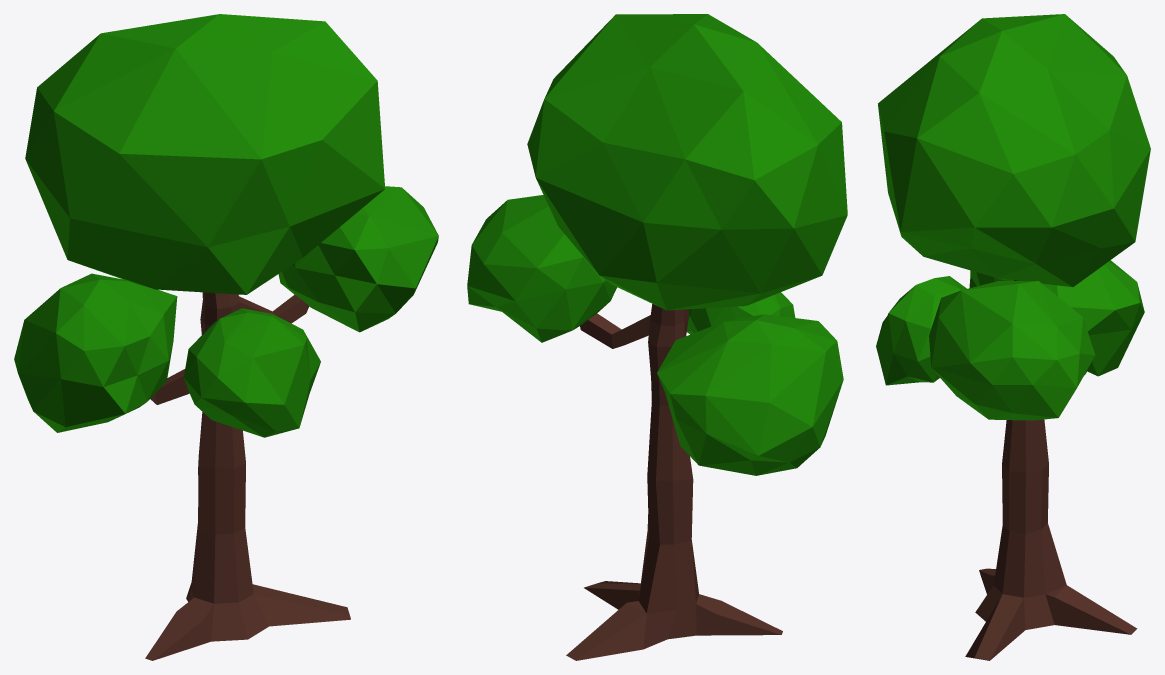
The model's file is Tree2.fbx.
3 views of the same model, side by side, from view 1: azimuth 30°, elevation 25°; view 2: azimuth 150°, elevation 25°; view 3: azimuth 270°, elevation 25° (orthographic). The views are drawn at different scales.
Parts seen in each view (by area): view 1: Icosphere; view 2: Icosphere; view 3: Icosphere.
Boxes of the visible parts, x1=… form: Icosphere: x1=14, y1=14, x2=438, y2=660; Icosphere: x1=467, y1=14, x2=847, y2=660; Icosphere: x1=876, y1=14, x2=1150, y2=660.
Bounding box in the file's own units: 978 × 1538 × 666.
